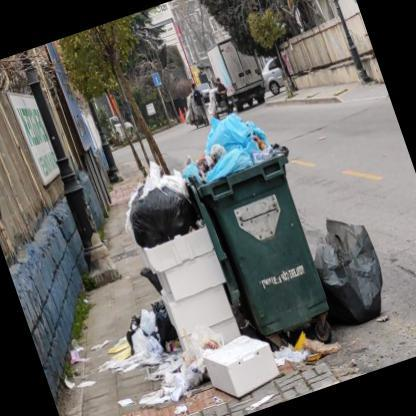Garbage: (82, 289, 195, 415), (300, 202, 398, 336), (176, 100, 284, 185), (108, 158, 200, 254), (268, 328, 323, 374)
